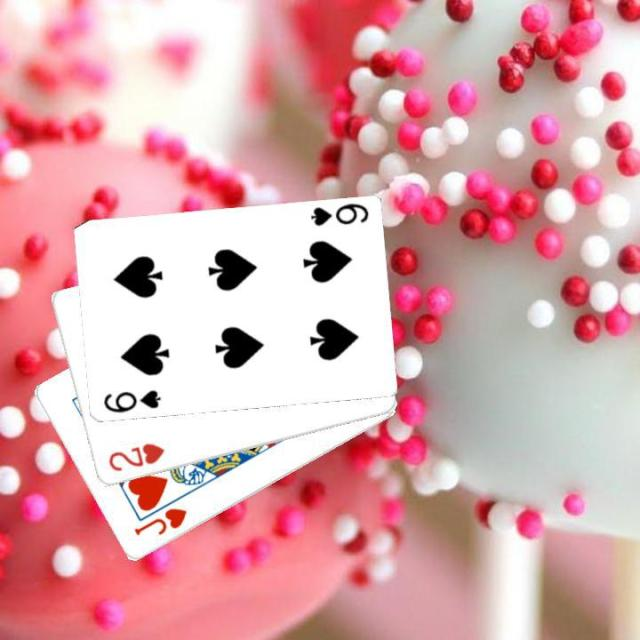2H: (104, 439, 166, 474)
6S: (306, 200, 369, 228), (100, 387, 162, 415)
JH: (130, 504, 188, 538)
